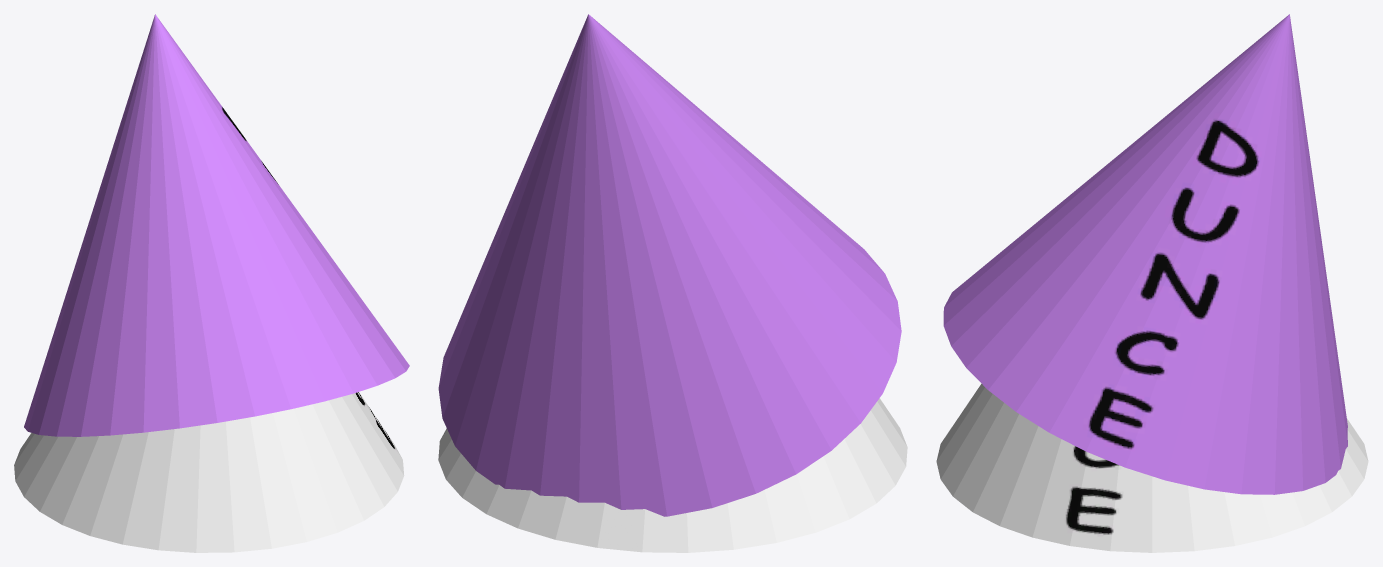
File: DunceHat2_Model.glb
3 views of the same model, side by side, from view 1: azimuth 30°, elevation 25°; view 2: azimuth 150°, elevation 25°; view 3: azimuth 270°, elevation 25° (orthographic). The views are drawn at different scales.
Visible parts, largest first — view 1: DunceHat_1.001, DunceHat_1.002; view 2: DunceHat_1.001, DunceHat_1.002; view 3: DunceHat_1.001, DunceHat_1.002.
Part boxes in pixels (x1,y1,x2,y2): DunceHat_1.001: [24, 14, 409, 436]; DunceHat_1.002: [14, 392, 404, 552]; DunceHat_1.001: [438, 14, 901, 516]; DunceHat_1.002: [438, 398, 907, 552]; DunceHat_1.001: [943, 14, 1347, 494]; DunceHat_1.002: [936, 383, 1368, 552].
Size of the model in its own units: 2.03 by 2.31 by 2.
Materials: 2 (2 with a texture image).
